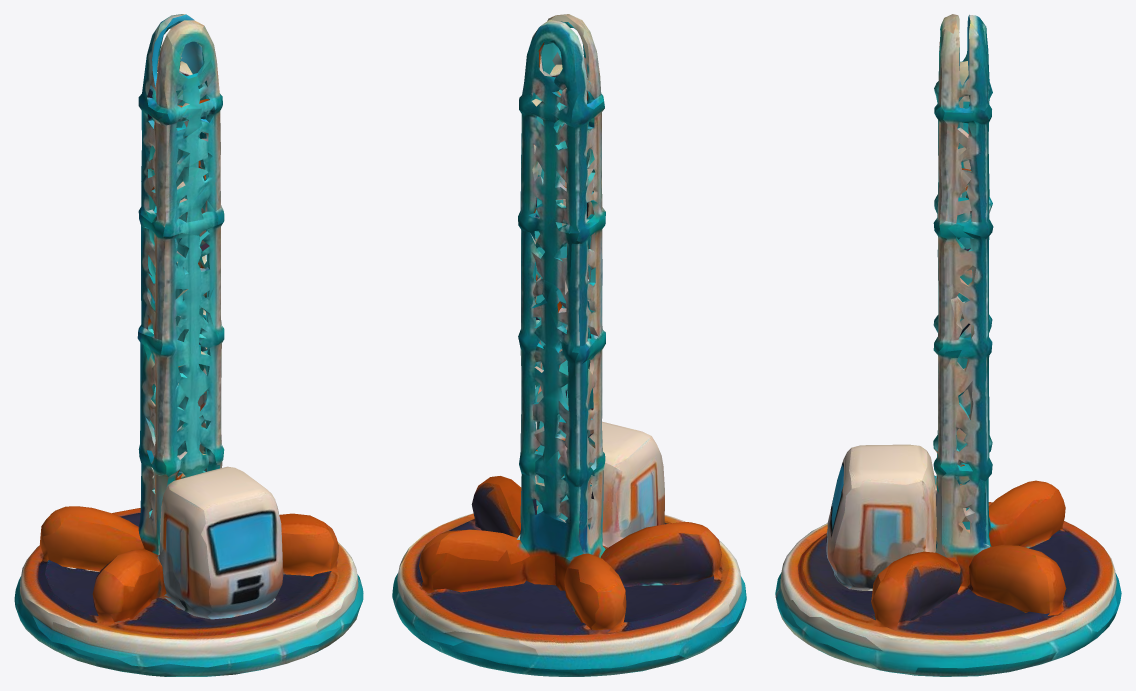
Rendered from orbital_elevator.glb.
3 views of the same model, side by side, from view 1: azimuth 30°, elevation 25°; view 2: azimuth 150°, elevation 25°; view 3: azimuth 270°, elevation 25° (orthographic).
Visible parts, largest first — view 1: orbital_elevator; view 2: orbital_elevator; view 3: orbital_elevator.
Part boxes in pixels (left/top/right/bottom): orbital_elevator: left=14, top=14, right=363, bottom=676; orbital_elevator: left=392, top=14, right=746, bottom=676; orbital_elevator: left=775, top=14, right=1121, bottom=676.
Bounding box in the file's own units: 0.5443 × 1 × 0.5325.
Materials: 1 (1 with a texture image).
